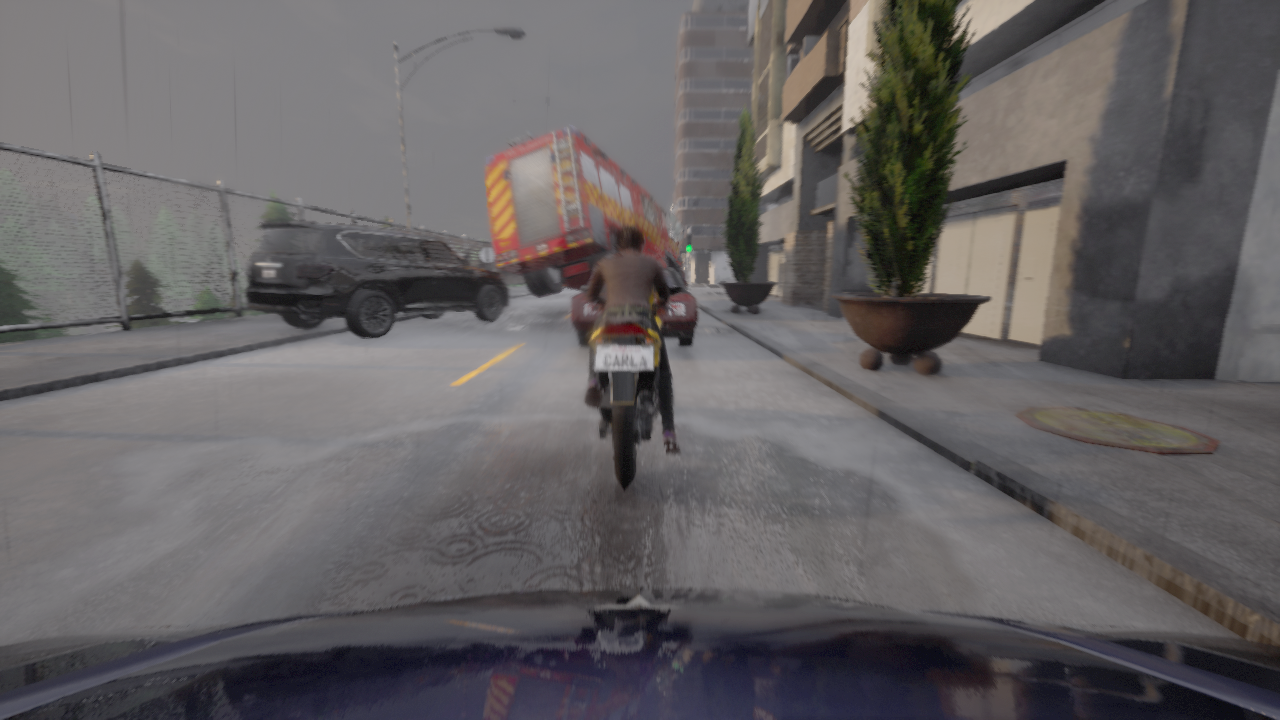cyclist: (0, 588, 1279, 719), (485, 123, 687, 296), (245, 222, 509, 337), (582, 286, 682, 490), (570, 269, 698, 346)
